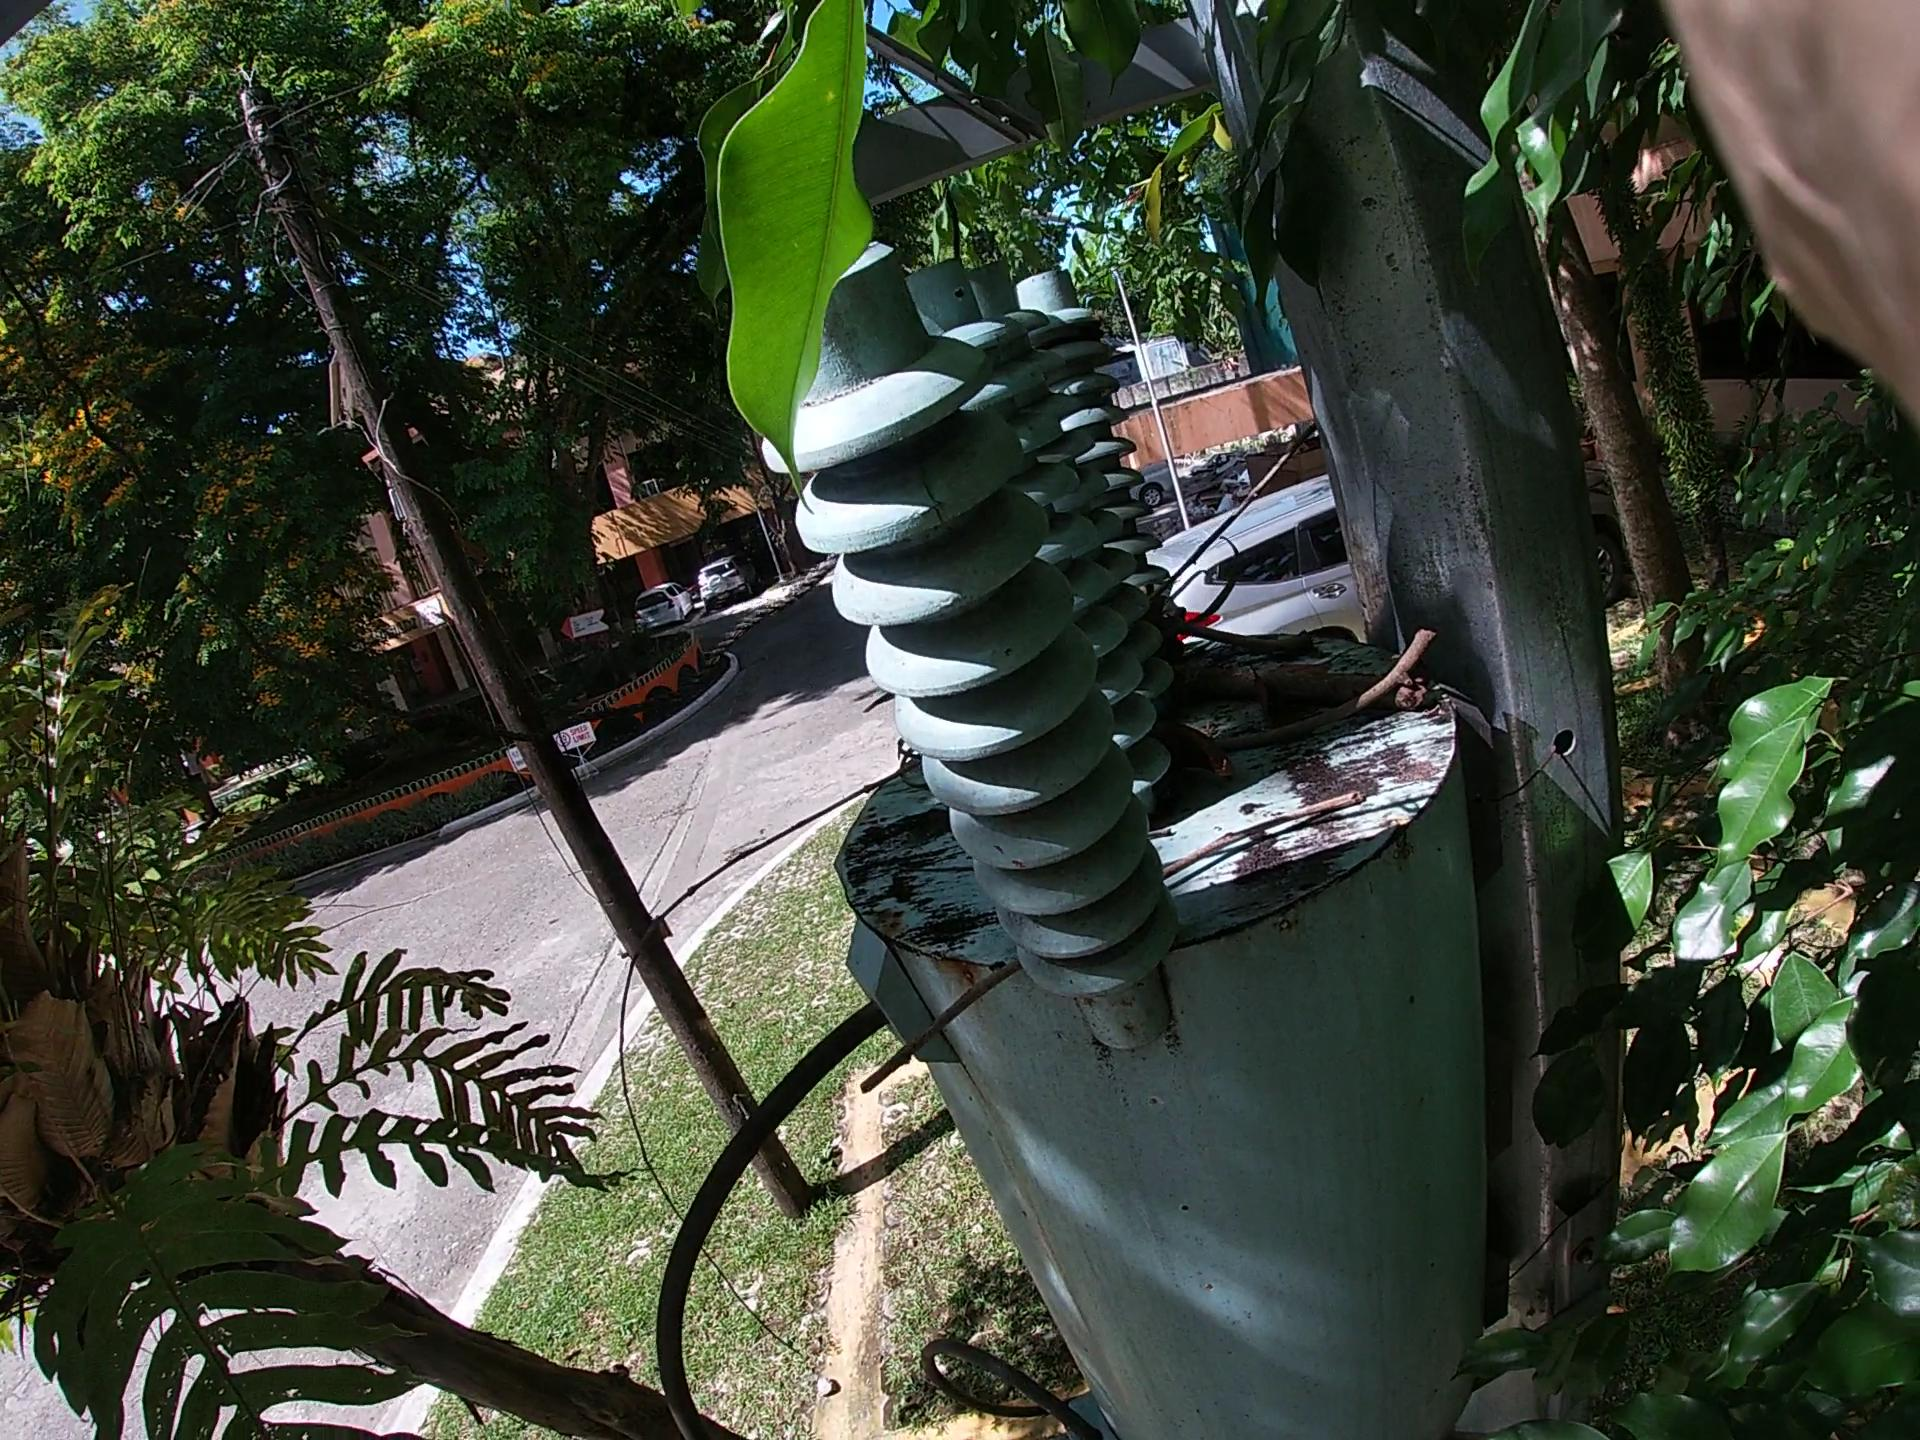leaf: (1163, 646, 1330, 774)
mahogany fruit: (1214, 673, 1333, 797)
tree branch: (370, 299, 1380, 1175), (893, 762, 1370, 1054), (1169, 625, 1522, 729), (1119, 650, 1445, 734)
